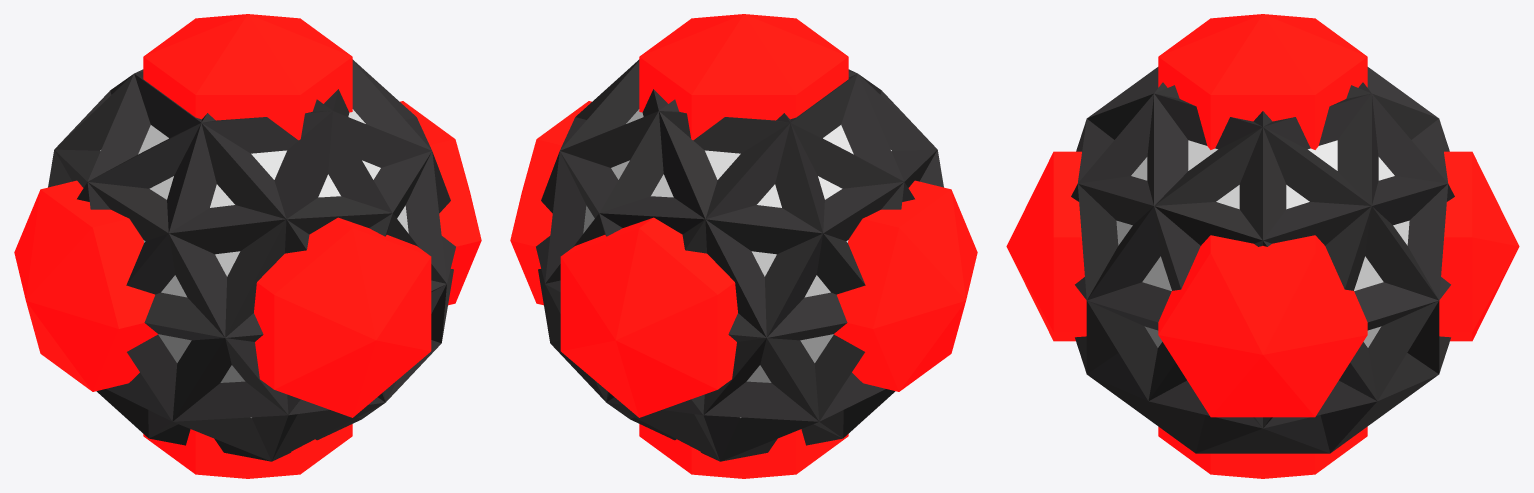
File: Charger.fbx
3 views of the same model, side by side, from view 1: azimuth 30°, elevation 25°; view 2: azimuth 150°, elevation 25°; view 3: azimuth 270°, elevation 25° (orthographic).
Parts seen in each view (by area): view 1: Icosphere.004, Cylinder, Icosphere.003; view 2: Icosphere.004, Cylinder, Icosphere.003; view 3: Icosphere.004, Cylinder, Icosphere.003.
Part boxes in pixels (x1,y1,x2,y2): Icosphere.004: [48, 59, 455, 461]; Cylinder: [14, 14, 481, 478]; Icosphere.003: [100, 109, 408, 417]; Icosphere.004: [536, 59, 943, 461]; Cylinder: [510, 14, 977, 478]; Icosphere.003: [583, 109, 891, 417]; Icosphere.004: [1071, 67, 1454, 453]; Cylinder: [1006, 14, 1519, 478]; Icosphere.003: [1116, 140, 1409, 347].
Size of the model in its own units: 150 by 150 by 150.
